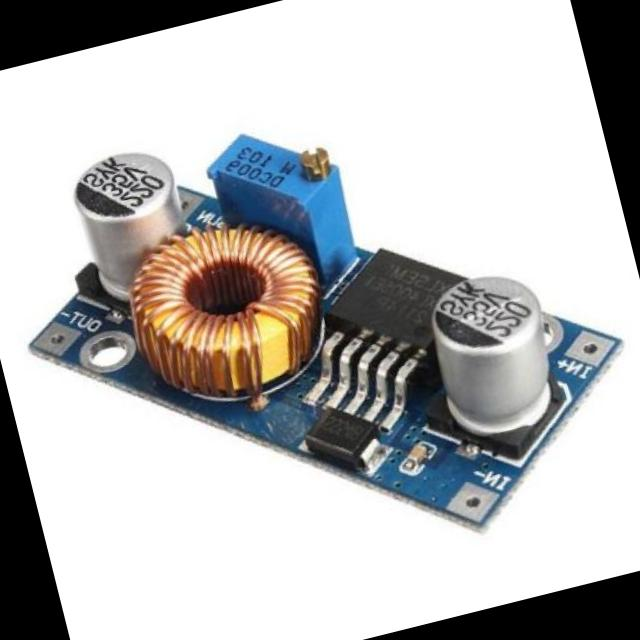IC: (292, 218, 494, 423)
capacitor: (414, 266, 574, 458), (58, 130, 194, 293), (398, 438, 436, 474)
diode: (289, 398, 388, 480)
potentiometer: (208, 125, 348, 255)
